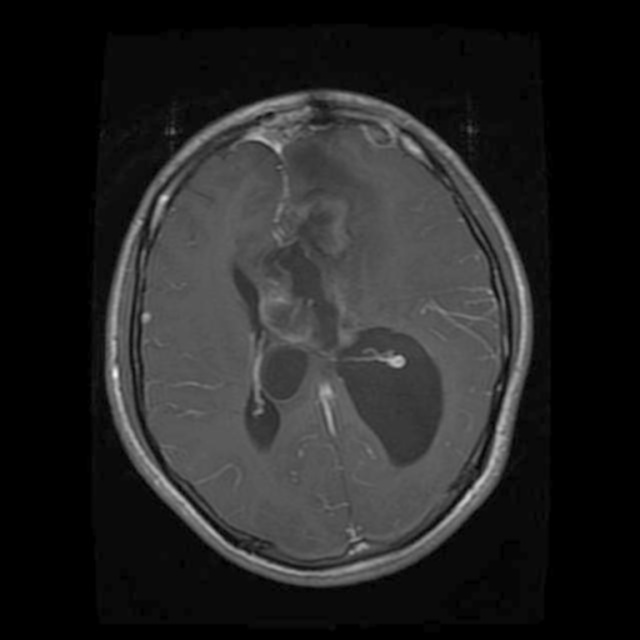pituitary tumor: (254, 190, 346, 338)
